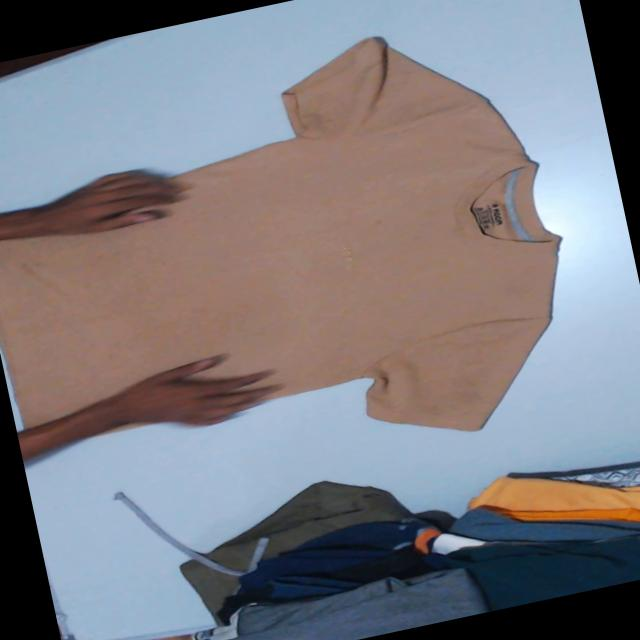new-garment: (0, 37, 558, 428)
